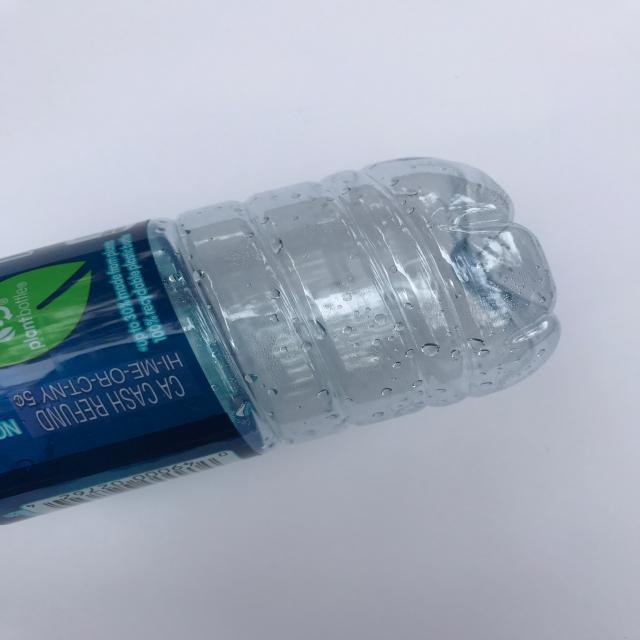plastic: (2, 155, 566, 542)
